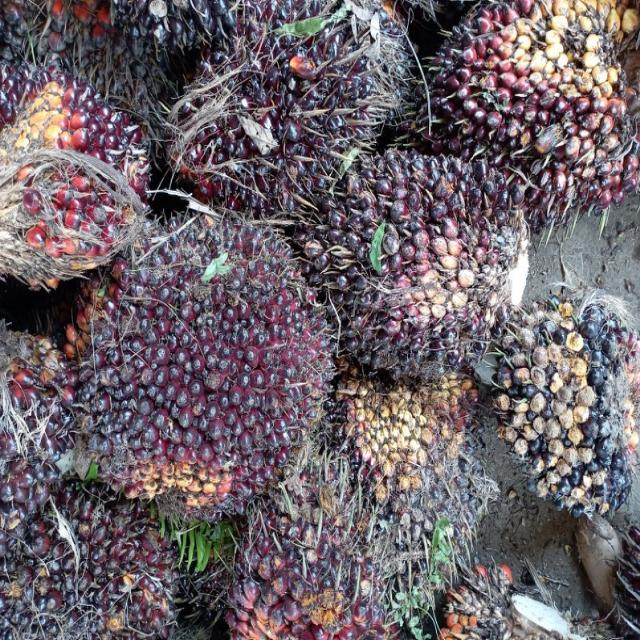fraksi 1: (34, 188, 362, 553)
